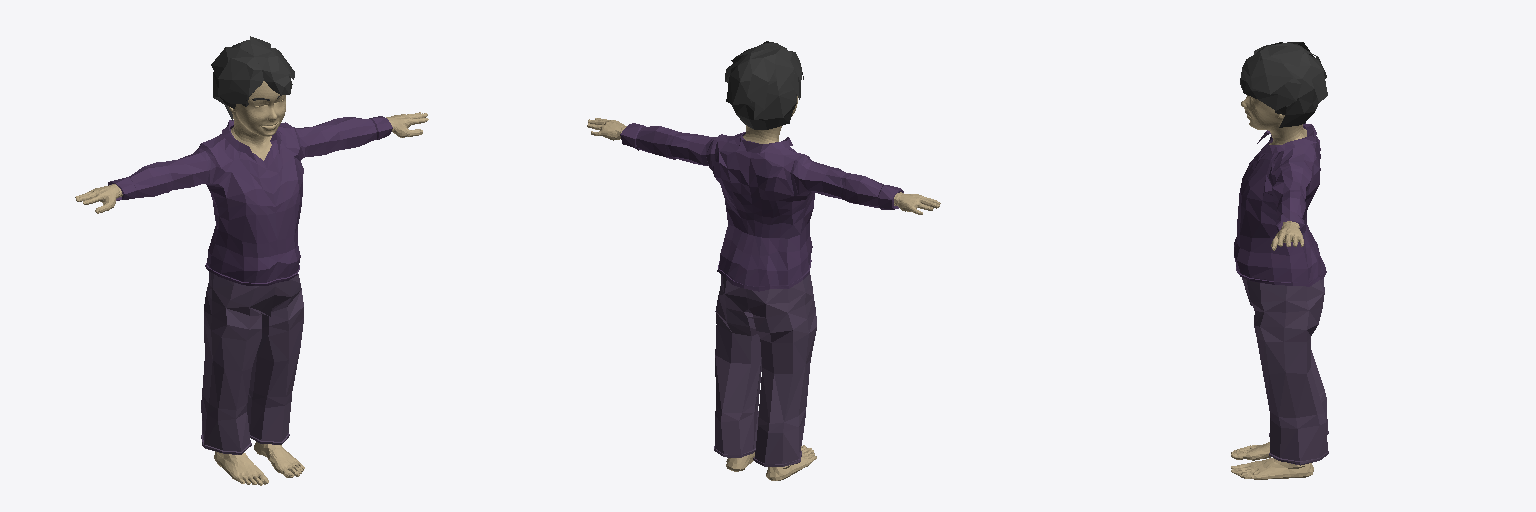
The model's file is boy.obj.
3 views of the same model, side by side, from view 1: azimuth 30°, elevation 25°; view 2: azimuth 150°, elevation 25°; view 3: azimuth 270°, elevation 25° (orthographic).
Parts seen in each view (by area): view 1: boy_model; view 2: boy_model; view 3: boy_model.
Boxes of the visible parts, box(x1,y1,x2,y2) form: boy_model: box(75, 36, 428, 485); boy_model: box(587, 41, 940, 480); boy_model: box(1231, 42, 1328, 479).
Size of the model in its own units: 9.92 by 11.33 by 2.41.